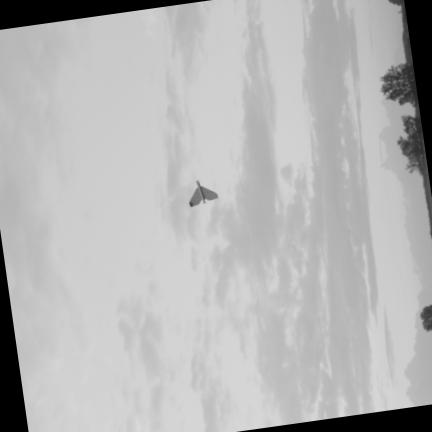Shahed: (189, 179, 217, 205)
